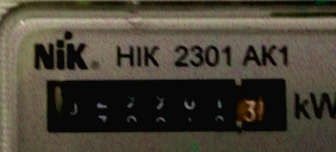0: (62, 88, 80, 115), (181, 81, 197, 110)
1: (212, 80, 225, 108)
2: (92, 82, 110, 109)
3: (241, 95, 258, 121)
9: (122, 81, 138, 109), (153, 82, 166, 109)
screen: (37, 67, 298, 140)
